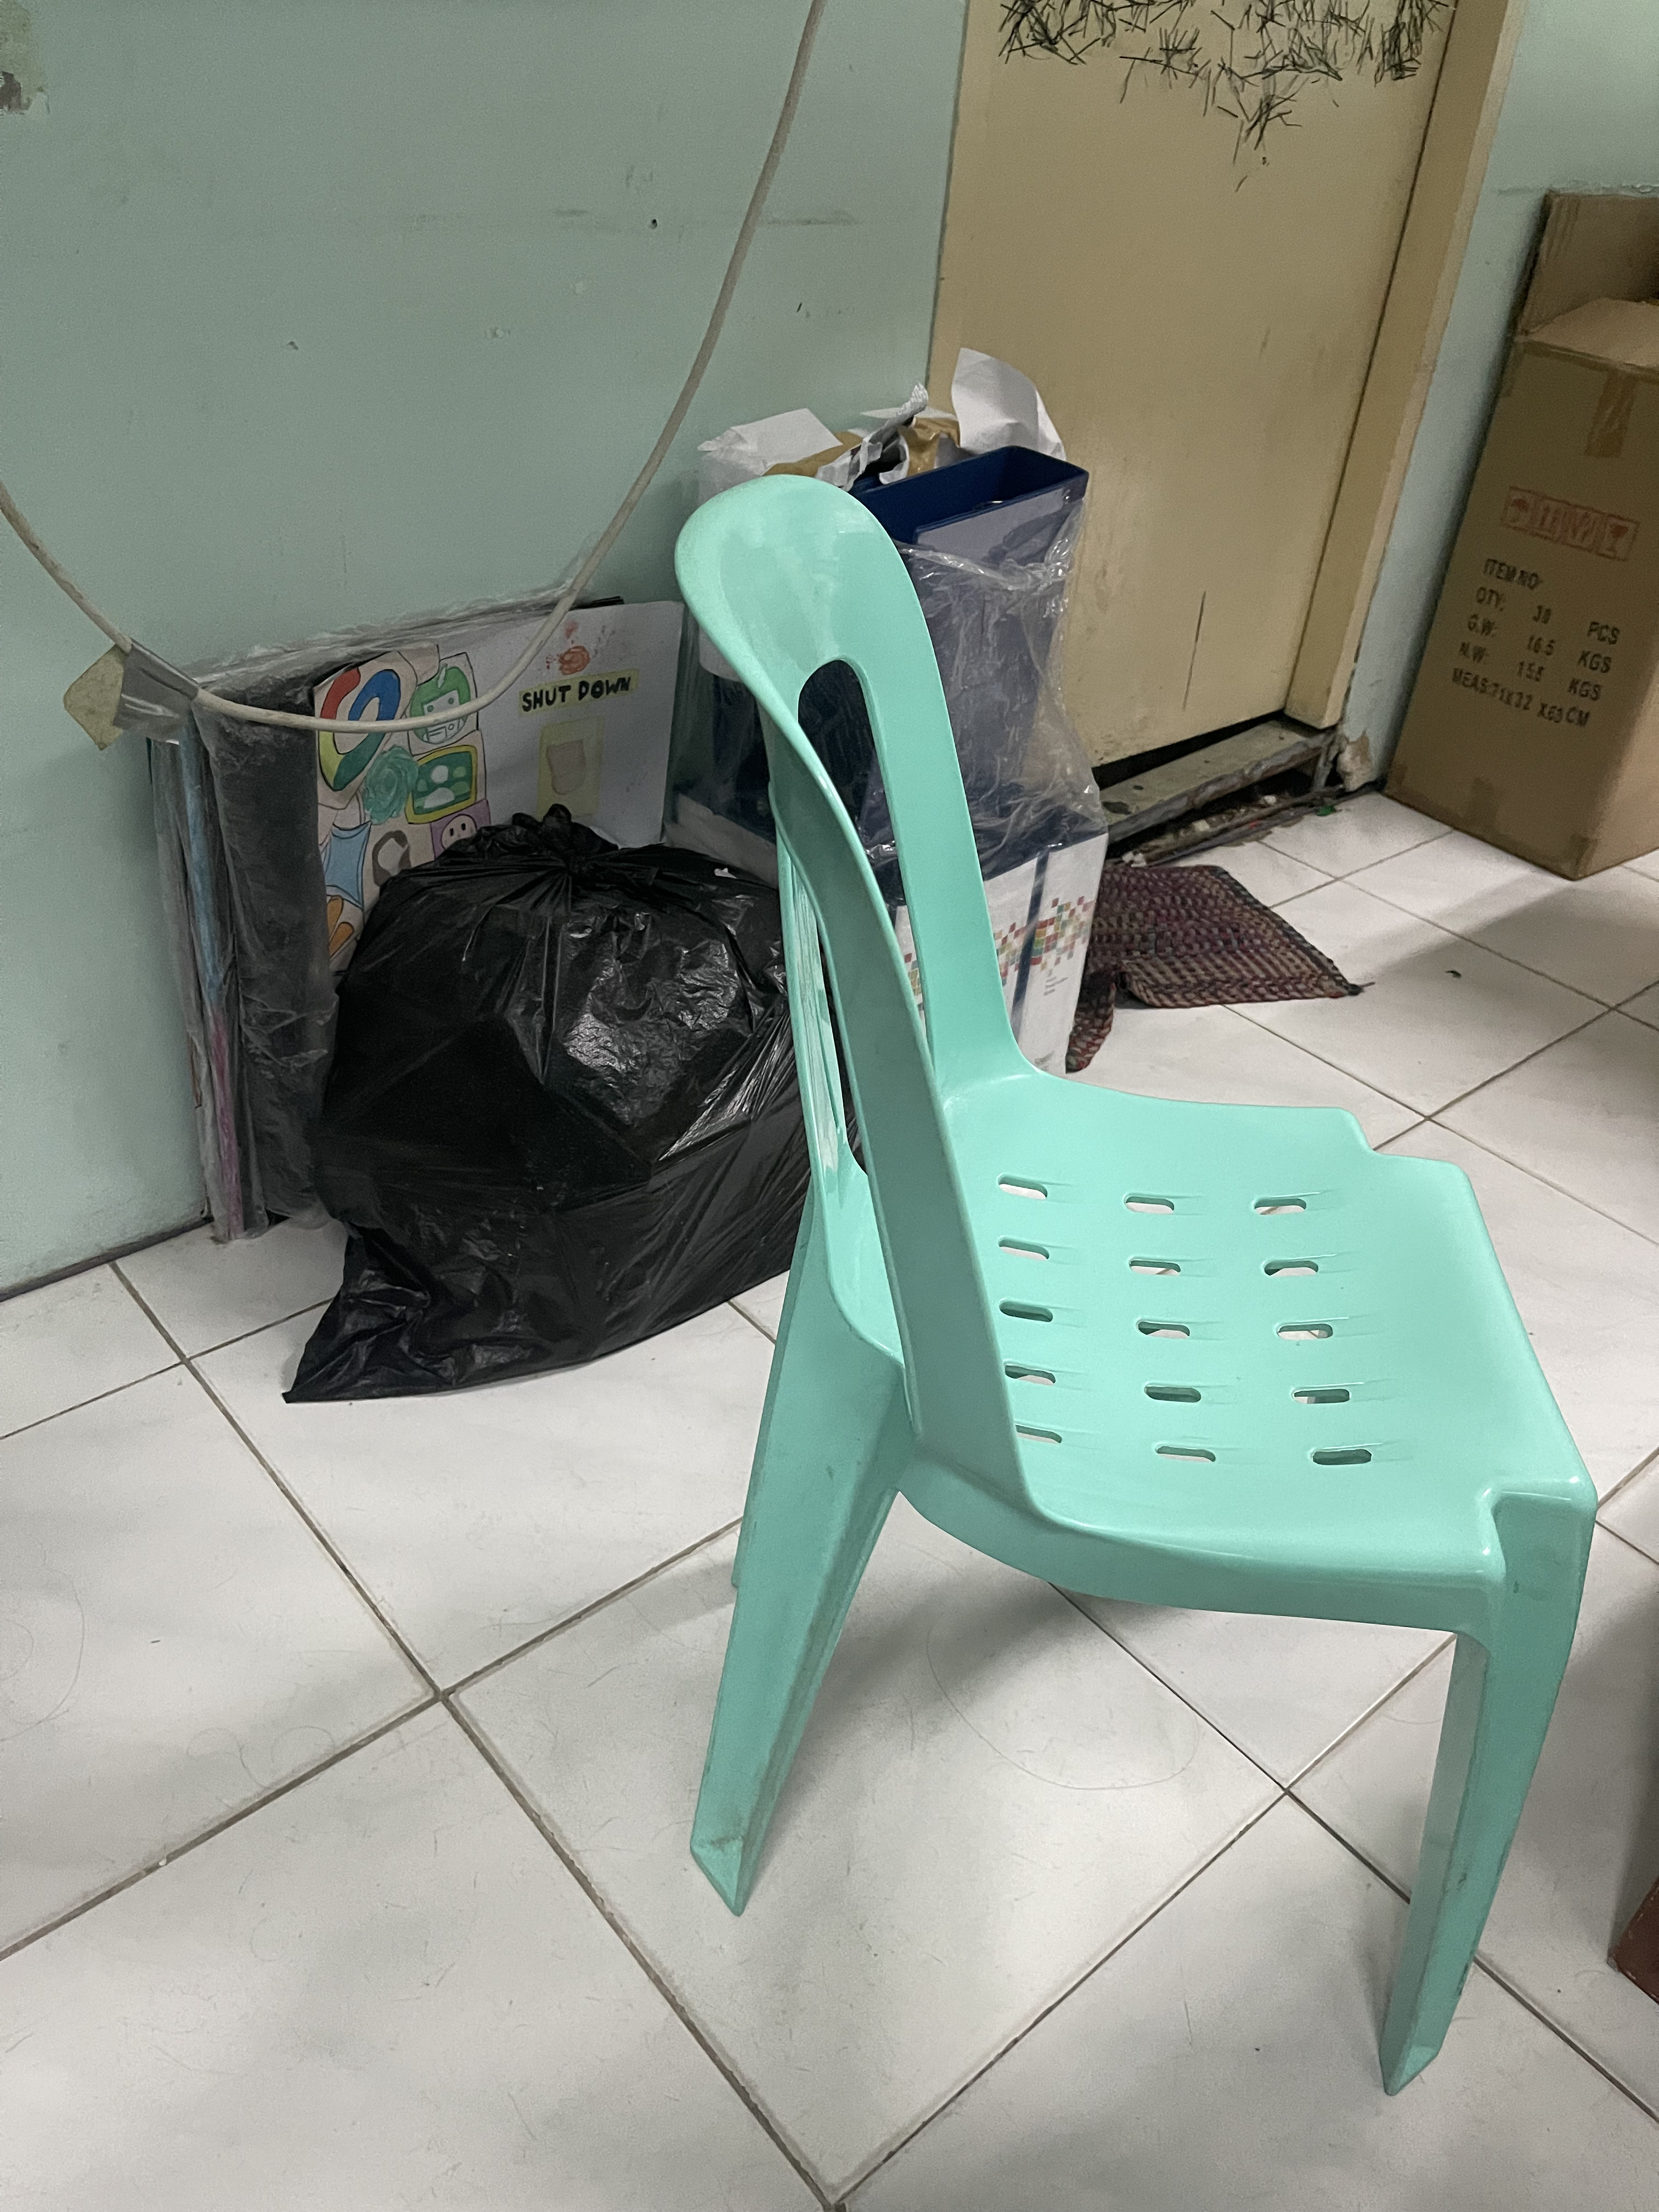chair2: (662, 469, 1605, 2125)
